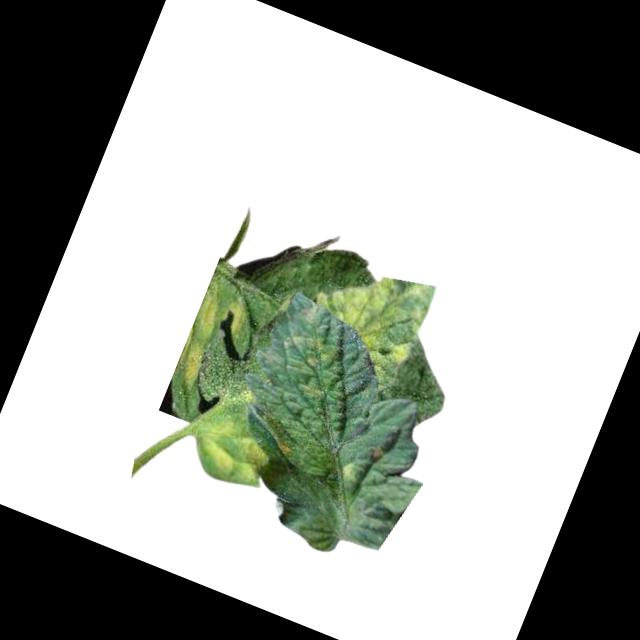Leaf_Mold: (296, 246, 438, 385), (190, 411, 279, 494), (271, 297, 351, 376), (171, 338, 214, 394), (187, 290, 225, 344), (290, 368, 331, 405), (216, 298, 248, 335), (272, 431, 300, 460), (338, 456, 361, 485)
